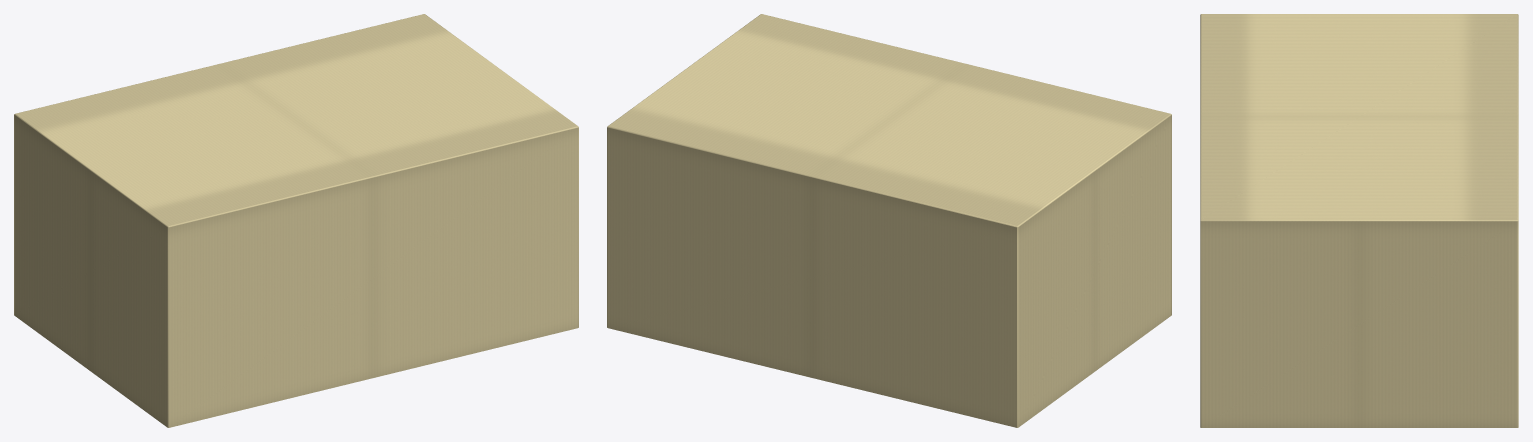
Rendered from 11-standing-binder-band-4-2.fbx.
3 renders of one model, left to right at view 1: azimuth 30°, elevation 25°; view 2: azimuth 150°, elevation 25°; view 3: azimuth 270°, elevation 25°, orthographic. The views are drawn at different scales.
Parts seen in each view (by area): view 1: standing-binder-band-4-2; view 2: standing-binder-band-4-2; view 3: standing-binder-band-4-2.
Boxes of the visible parts, x1,y1,x2,y2 form: standing-binder-band-4-2: [14, 14, 578, 427]; standing-binder-band-4-2: [607, 14, 1171, 427]; standing-binder-band-4-2: [1200, 14, 1518, 427].
Size of the model in its own units: 12600 by 5900 by 8200.
Materials: 1 (1 with a texture image).
